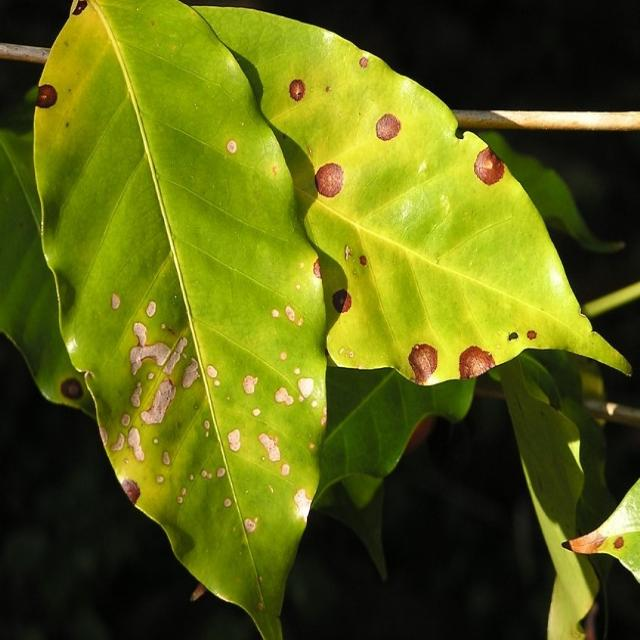Enfermedad-Mancha-de-hierro: (31, 0, 633, 640)
